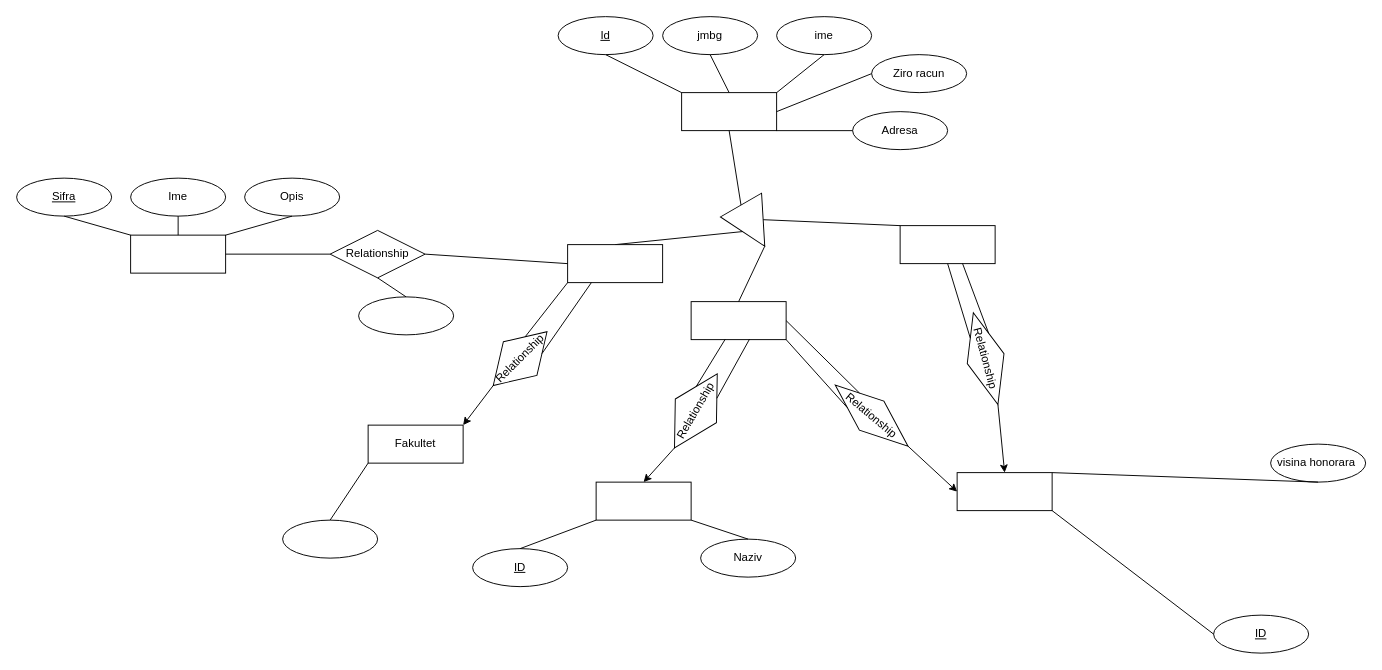
Image size: 1382x670. Some labels were removed from this diagram. The shapes that lost their labels are listed below. From the top down, each one's centre as x and y in pixels, then its label:
At (729,111): "Zaposleni".
At (178,253): "Medicinska usluga".
At (615,263): "Doktor".
At (947,244): "Radnici na odrzavanju".
At (406,315): "broj godina iskustva".
At (738,320): "Administrativno osoblje".
At (643,500): "Stepen strucne spreme".
At (1004,491): "Honorar".
At (330,538): "Naziv fakulteta".
